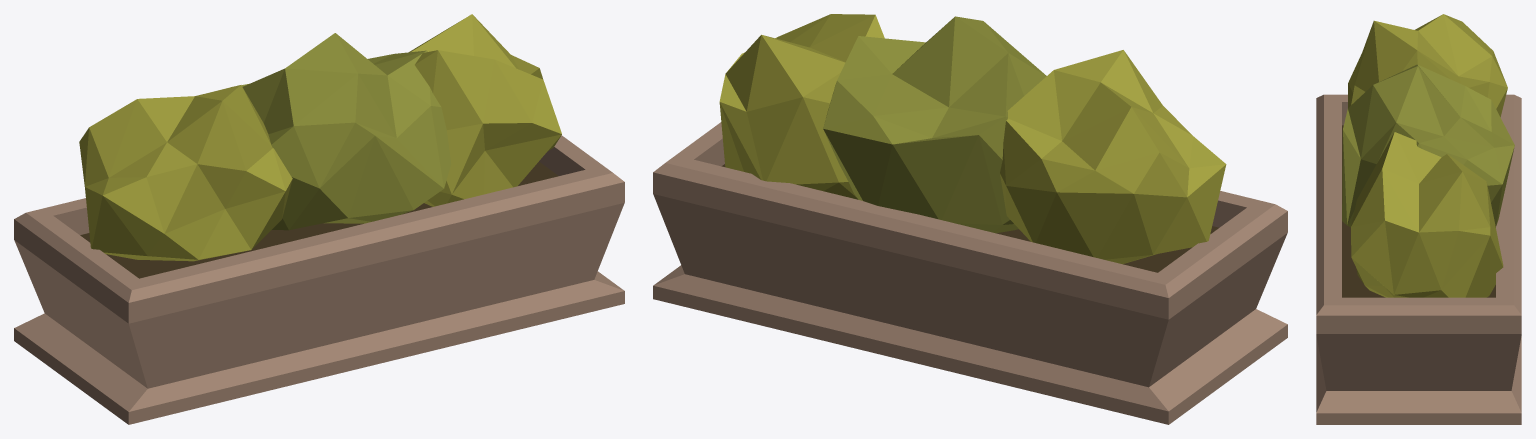
Rendered from fantasy_planter_1.fbx.
The picture shows the model from 3 angles, left to right: view 1: azimuth 30°, elevation 25°; view 2: azimuth 150°, elevation 25°; view 3: azimuth 270°, elevation 25°; orthographic projection. The views are drawn at different scales.
Parts seen in each view (by area): view 1: Cube.032, Icosphere.003; view 2: Cube.032, Icosphere.003; view 3: Icosphere.003, Cube.032.
Boxes of the visible parts, x1,y1,x2,y2 form: Cube.032: [14, 135, 624, 424]; Icosphere.003: [79, 14, 561, 261]; Cube.032: [653, 122, 1287, 424]; Icosphere.003: [719, 14, 1226, 264]; Icosphere.003: [1342, 14, 1514, 297]; Cube.032: [1316, 94, 1521, 424].
Size of the model in its own units: 200 by 110 by 80.
